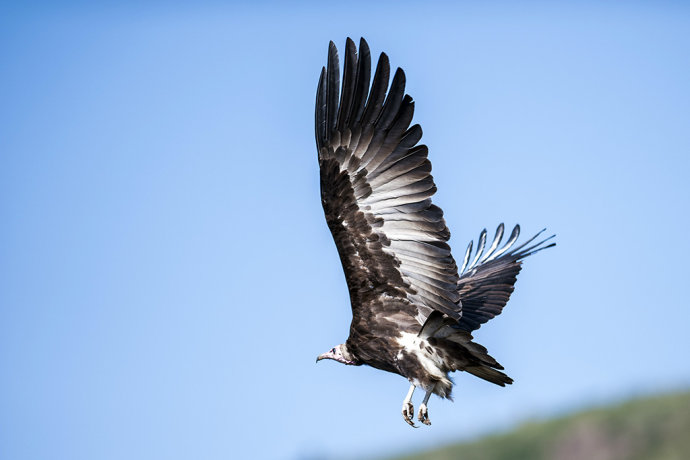bird: (302, 31, 561, 434)
